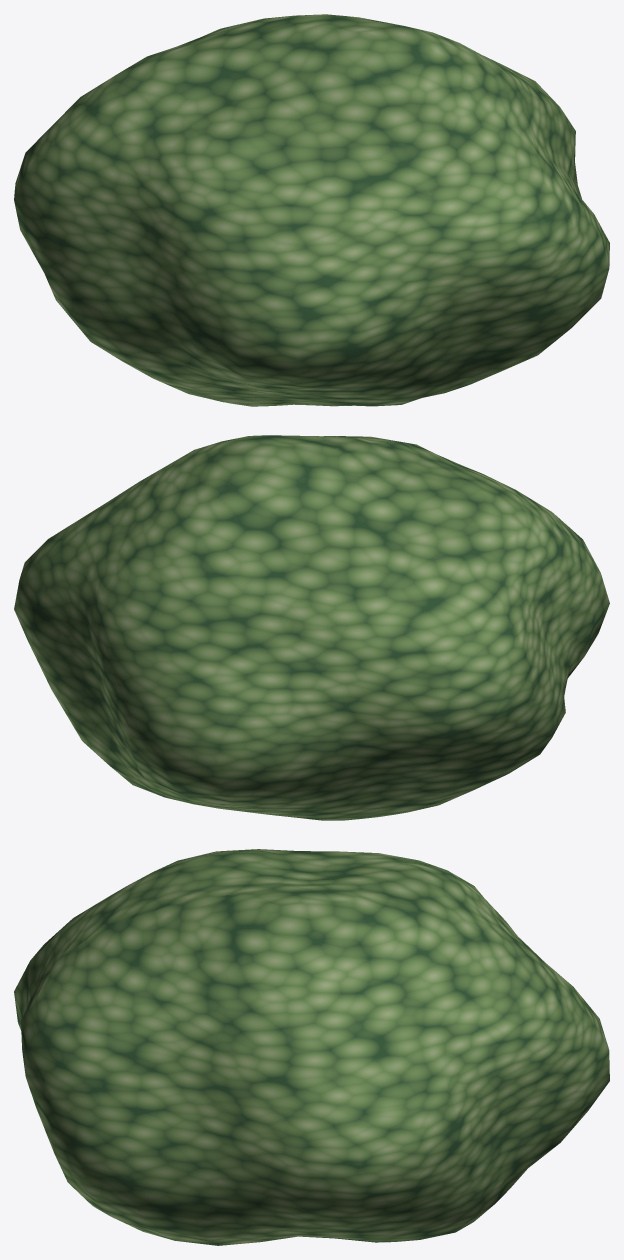
The model's file is SmoothCanopy.glb.
The picture shows the model from 3 angles, top to bottom: view 1: azimuth 30°, elevation 25°; view 2: azimuth 150°, elevation 25°; view 3: azimuth 270°, elevation 25°; orthographic projection. The views are drawn at different scales.
Visible parts, largest first — view 1: SmoothCanopy; view 2: SmoothCanopy; view 3: SmoothCanopy.
Boxes of the visible parts, x1=… form: SmoothCanopy: x1=14, y1=14, x2=609, y2=406; SmoothCanopy: x1=14, y1=435, x2=609, y2=820; SmoothCanopy: x1=14, y1=849, x2=609, y2=1245.
Bounding box in the file's own units: 2.1 × 1.3 × 2.08.
Materials: 1 (1 with a texture image).
